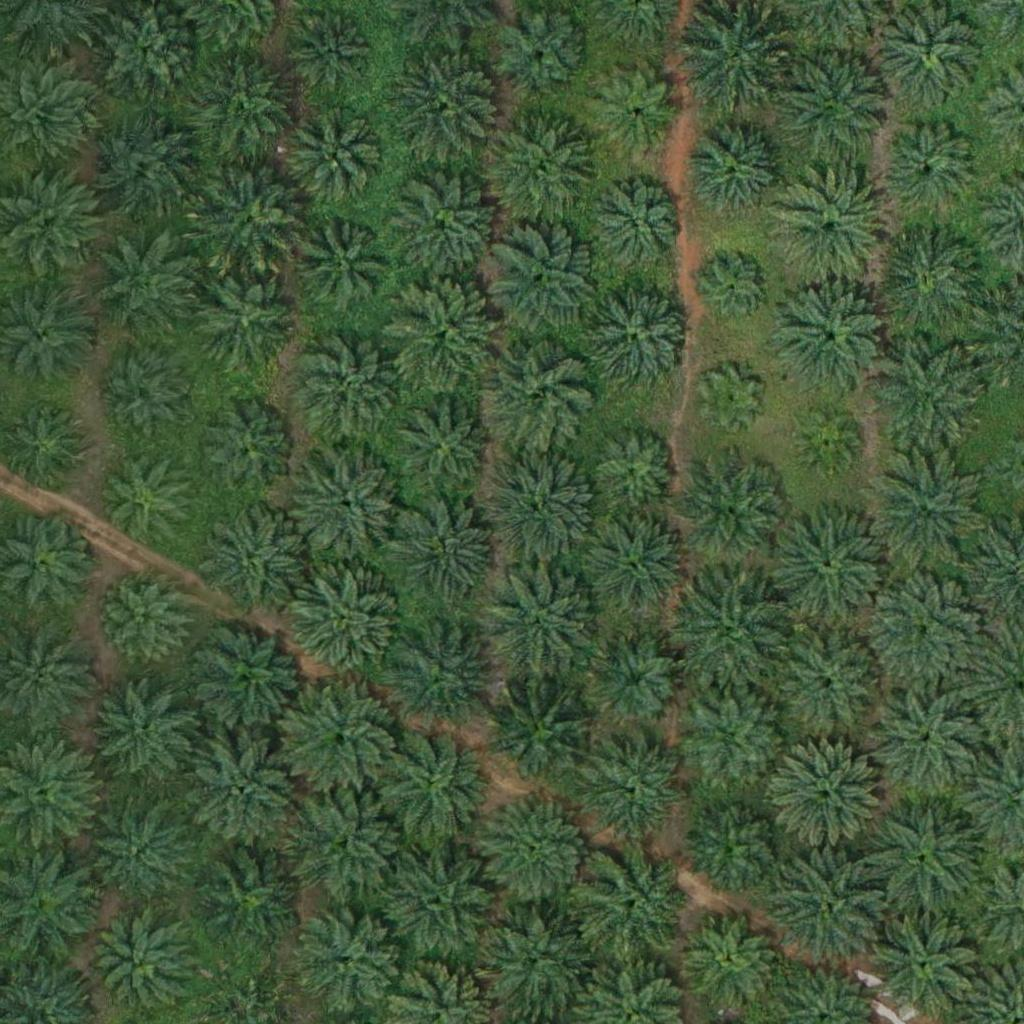Kelapa_Sawit: (675, 2, 788, 116), (488, 676, 601, 790), (196, 501, 309, 615), (373, 728, 486, 842), (480, 794, 593, 908), (578, 847, 691, 961), (392, 54, 505, 167), (387, 173, 500, 286), (681, 111, 794, 224), (773, 173, 886, 286), (866, 450, 979, 563), (870, 573, 983, 686), (775, 284, 888, 397), (772, 510, 885, 623), (480, 339, 593, 452), (484, 452, 597, 565), (485, 567, 598, 680), (385, 277, 498, 390), (387, 397, 500, 510), (188, 622, 301, 735), (187, 737, 300, 850), (190, 843, 303, 956), (476, 907, 589, 1020), (772, 740, 885, 853), (865, 685, 978, 798), (868, 799, 981, 912), (869, 904, 982, 1017), (778, 46, 890, 160), (875, 114, 987, 228), (872, 226, 984, 340), (383, 616, 495, 730), (293, 447, 405, 561), (289, 568, 401, 682), (89, 232, 201, 346), (89, 109, 201, 222), (193, 61, 305, 174), (482, 111, 594, 224), (875, 339, 987, 452), (772, 629, 884, 742), (676, 456, 788, 569), (675, 578, 787, 691), (584, 283, 696, 396), (578, 514, 690, 627), (484, 224, 596, 337), (388, 499, 500, 612), (294, 331, 406, 444), (190, 165, 302, 278), (284, 683, 396, 796), (289, 787, 401, 900), (290, 905, 402, 1018), (385, 846, 497, 959), (770, 853, 882, 966), (99, 4, 199, 105), (285, 106, 385, 207), (586, 631, 686, 732), (291, 215, 391, 316), (95, 678, 195, 779), (84, 803, 184, 904), (686, 686, 786, 787), (687, 796, 787, 897), (194, 274, 294, 374), (195, 404, 295, 504), (94, 447, 194, 547), (589, 736, 689, 836), (685, 911, 785, 1011), (593, 184, 681, 272), (590, 424, 678, 512), (288, 9, 375, 98), (593, 68, 680, 156), (96, 355, 183, 443), (103, 574, 190, 662), (796, 411, 859, 474), (704, 257, 767, 320), (699, 368, 762, 431)
